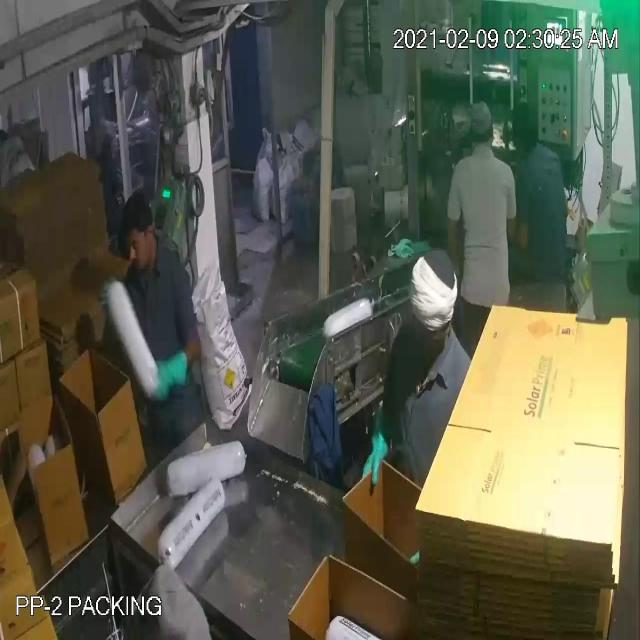gloves: (357, 412, 405, 494), (145, 348, 195, 402)
